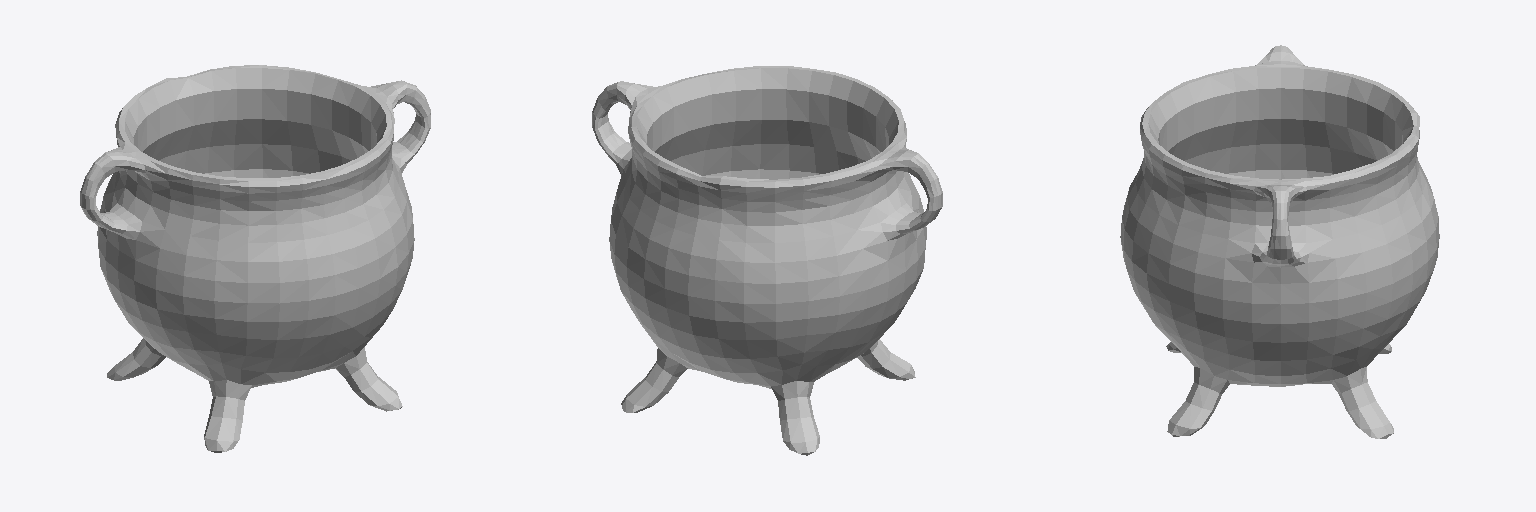
Rendered from couldron.obj.
3 renders of one model, left to right at view 1: azimuth 30°, elevation 25°; view 2: azimuth 150°, elevation 25°; view 3: azimuth 270°, elevation 25°, orthographic.
Visible parts, largest first — view 1: trn_Cauldron; view 2: trn_Cauldron; view 3: trn_Cauldron.
Part boxes in pixels (x1,y1,x2,y2): trn_Cauldron: (80, 65, 430, 452); trn_Cauldron: (592, 66, 942, 455); trn_Cauldron: (1120, 45, 1439, 438).
Bounding box in the file's own units: 1.08 × 0.8188 × 0.8596.